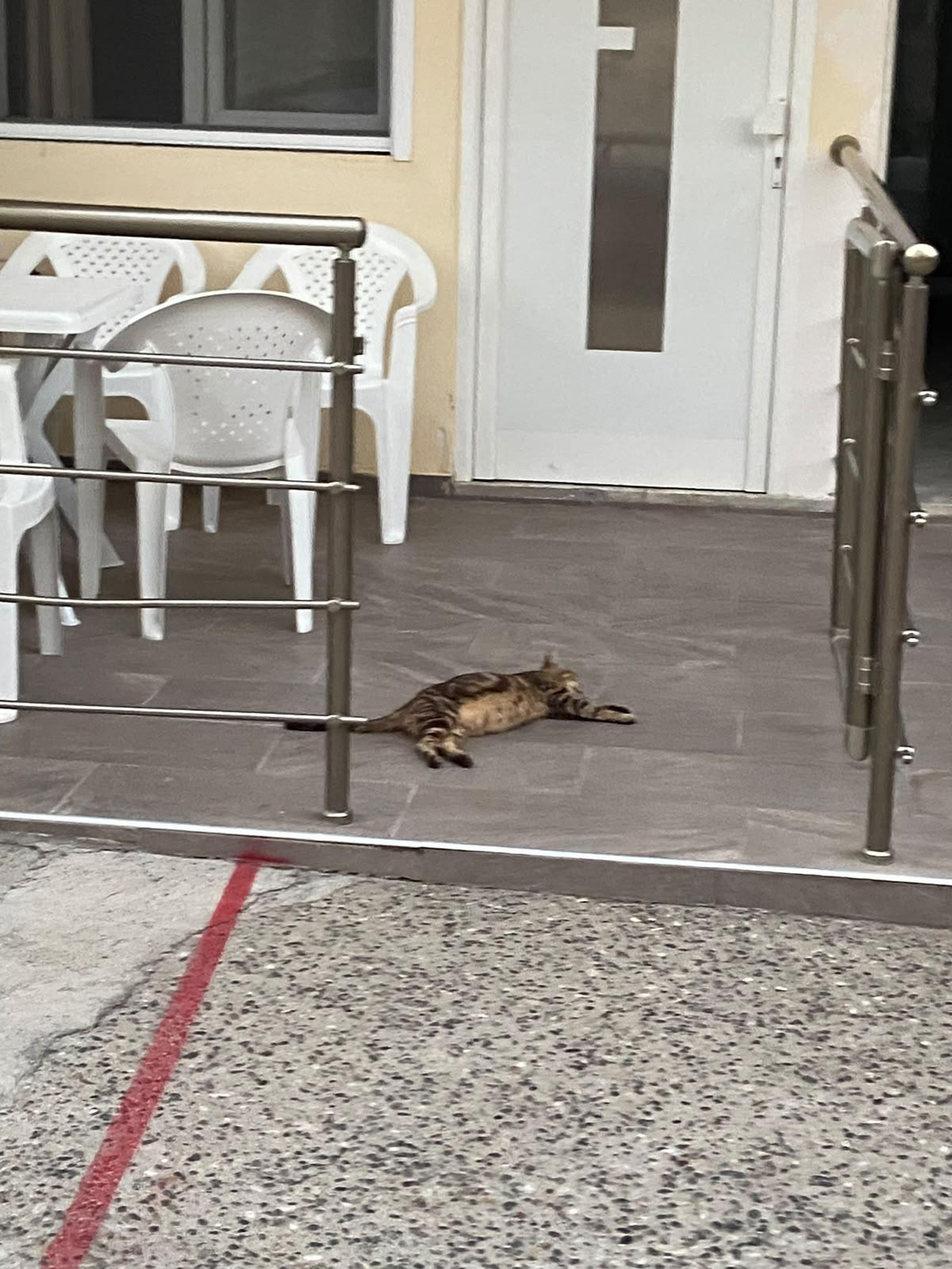macka: (284, 652, 638, 770)
